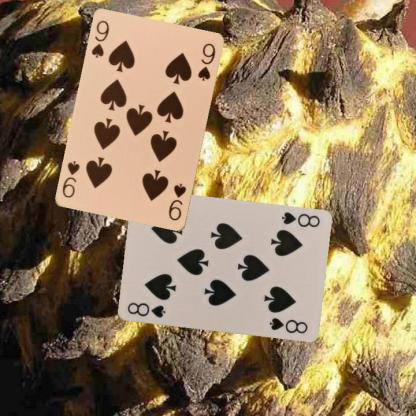8s: (278, 210, 322, 229), (125, 300, 166, 319)
9s: (89, 18, 111, 60), (166, 181, 188, 222)
